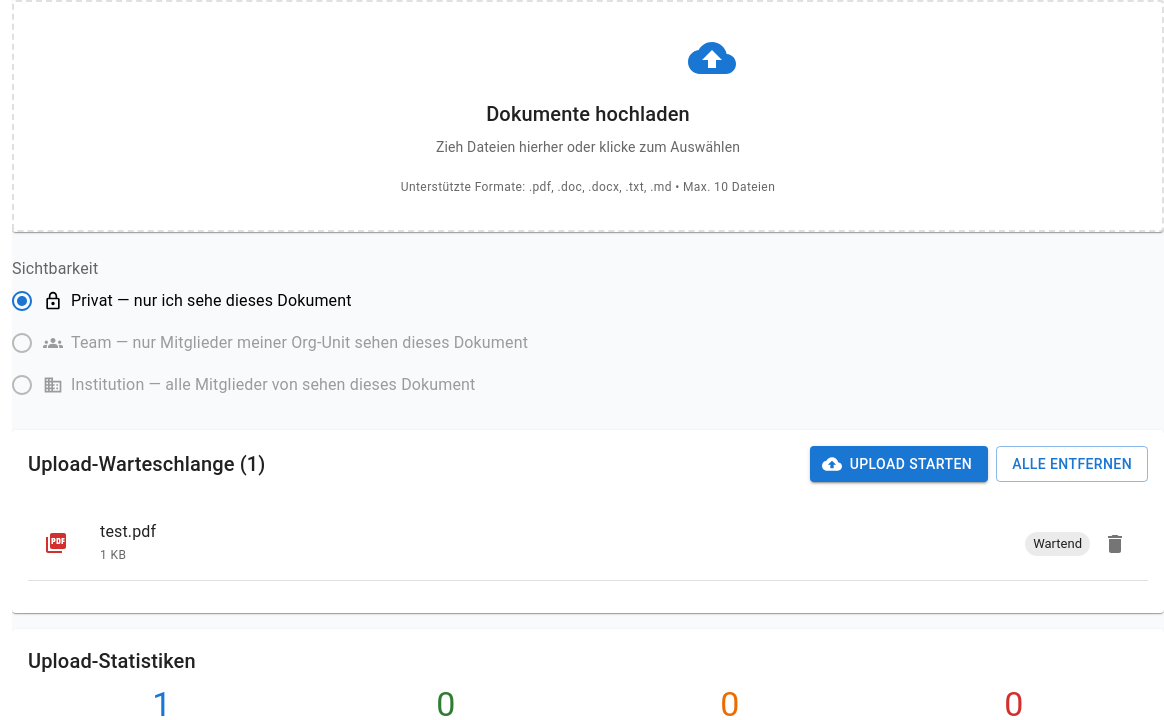
Test: DocumentUpload › Upload flow › uploads, starts processing and reports completion
The image size is (1164, 720).
Click the button "Upload starten".
click(899, 464)  # box left=810, top=446, right=988, bottom=482
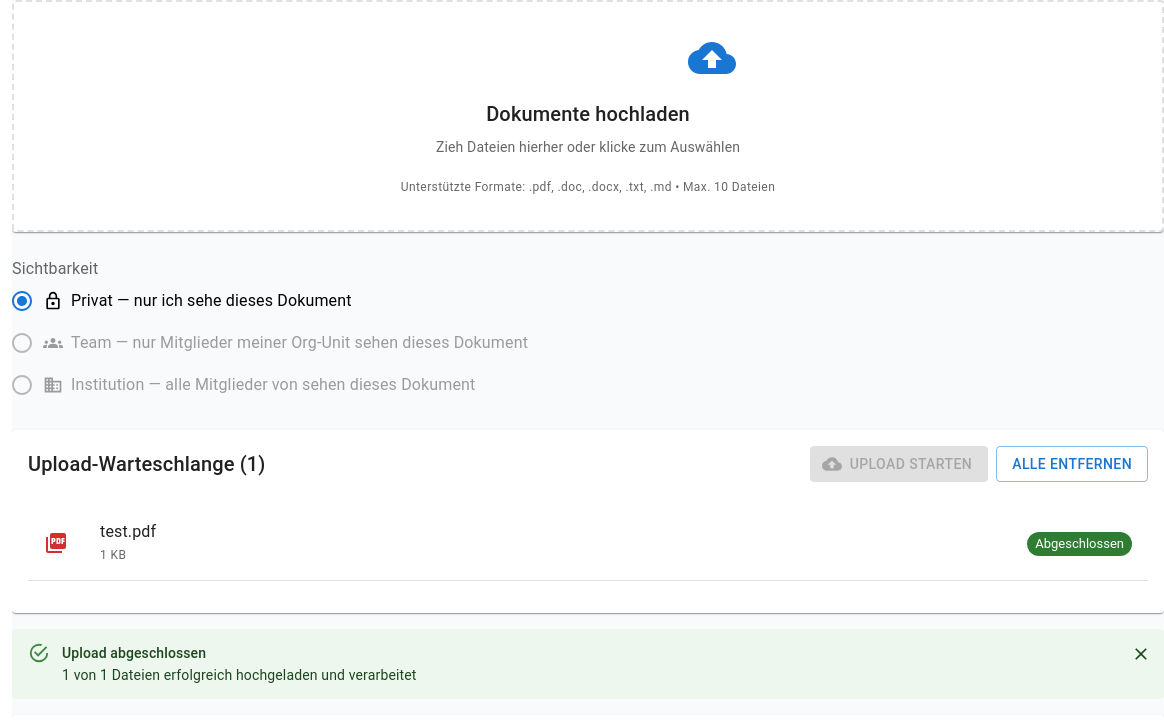
Expected: the text "Abgeschlossen" is shown, left=1035, top=536, right=1124, bottom=551
Expected: the heading "Upload abgeschlossen" is shown, left=62, top=645, right=206, bottom=661
Expected: the text "1 von 1 Dateien erfolgreich hochgeladen und verarbeitet" is shown, left=62, top=665, right=417, bottom=685
